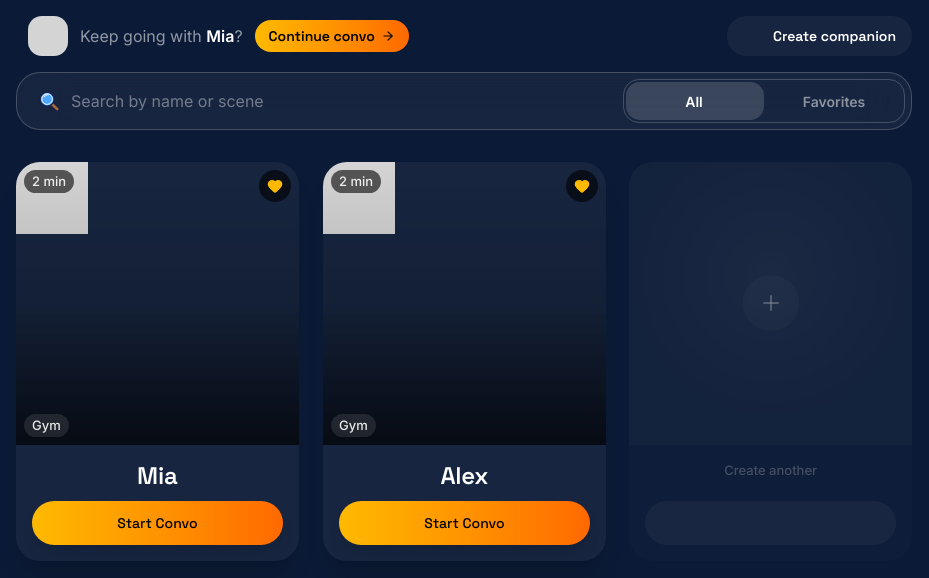
it: DashboardCompanionList › searches inside the current favorite set
Click the radio button labelled "Favorites" at (834, 102), box left=764, top=80, right=904, bottom=124
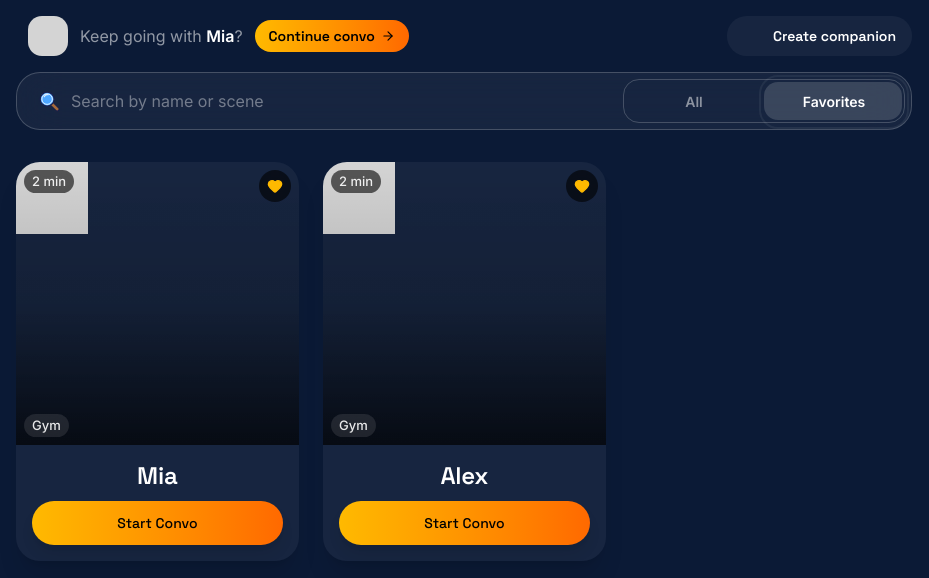
Expected: the heading "Mia" is shown, left=137, top=460, right=178, bottom=491
Expected: the heading "Alex" is shown, left=440, top=460, right=488, bottom=491
Type "Mia" into the field named "Search companions" at (334, 101), box left=71, top=89, right=597, bottom=113
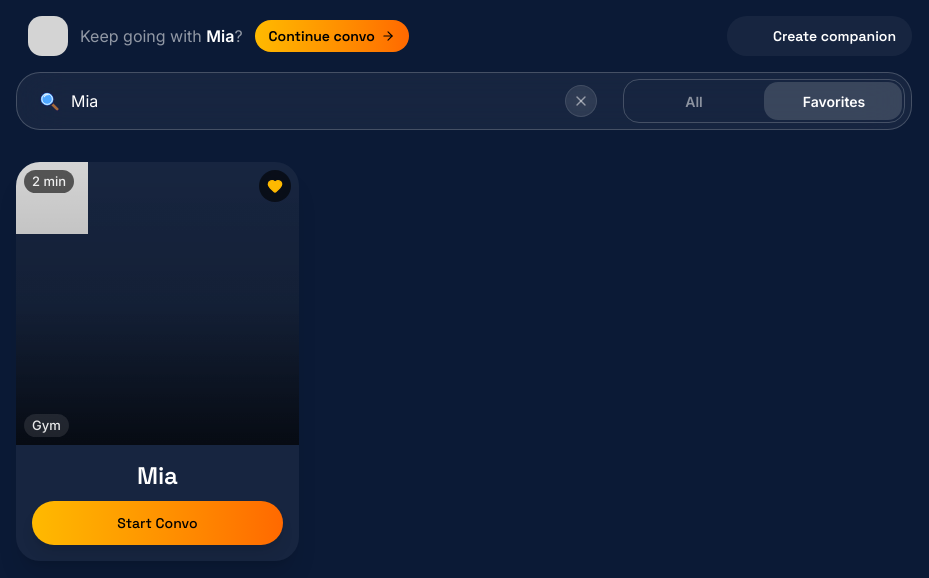
Expected: the heading "Mia" is shown, left=137, top=460, right=178, bottom=491
Expected: the heading "Alex" is gone
